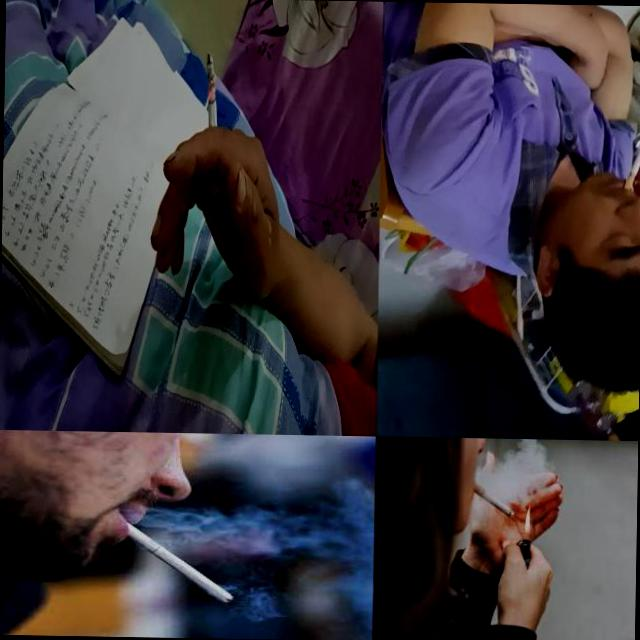cigarette: (114, 516, 235, 604), (204, 52, 221, 196), (471, 482, 515, 517), (623, 131, 640, 189)
